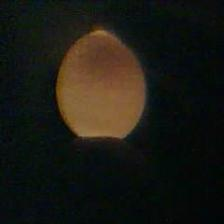infertile: (55, 30, 146, 144)
